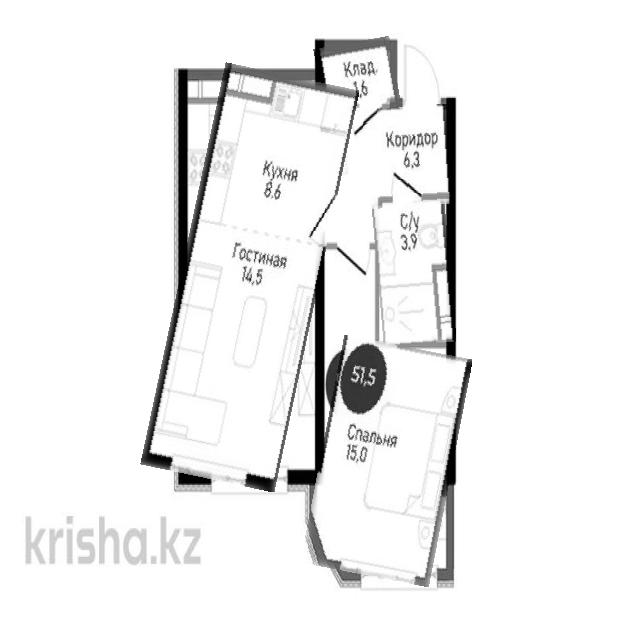bathroom: (374, 199, 453, 346)
hallway: (318, 106, 452, 210)
living_room: (311, 340, 462, 582)
other: (315, 39, 398, 111)
studio: (161, 67, 338, 488)
